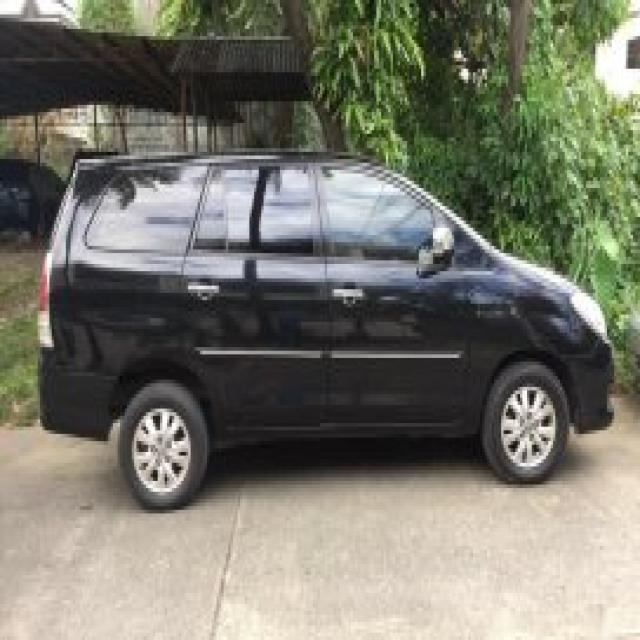light_vehicle: (37, 150, 616, 512)
